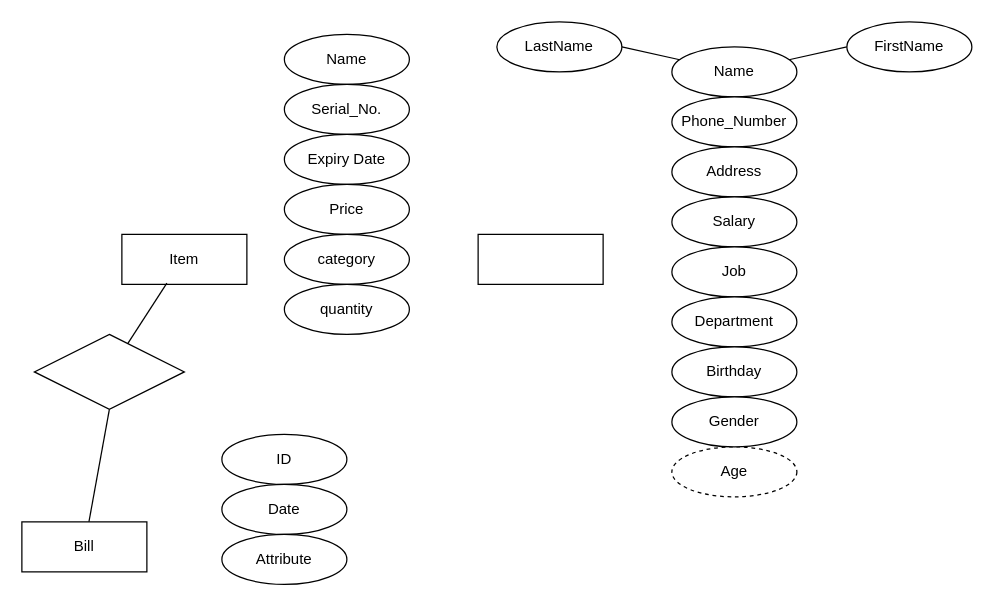
This 994x606 diagram has some shape labels left out. Here are the shapes that lost their labels. From the top down, the centre of each, then its label:
At point 540,258: "employee".
At point 108,371: "Contains".
